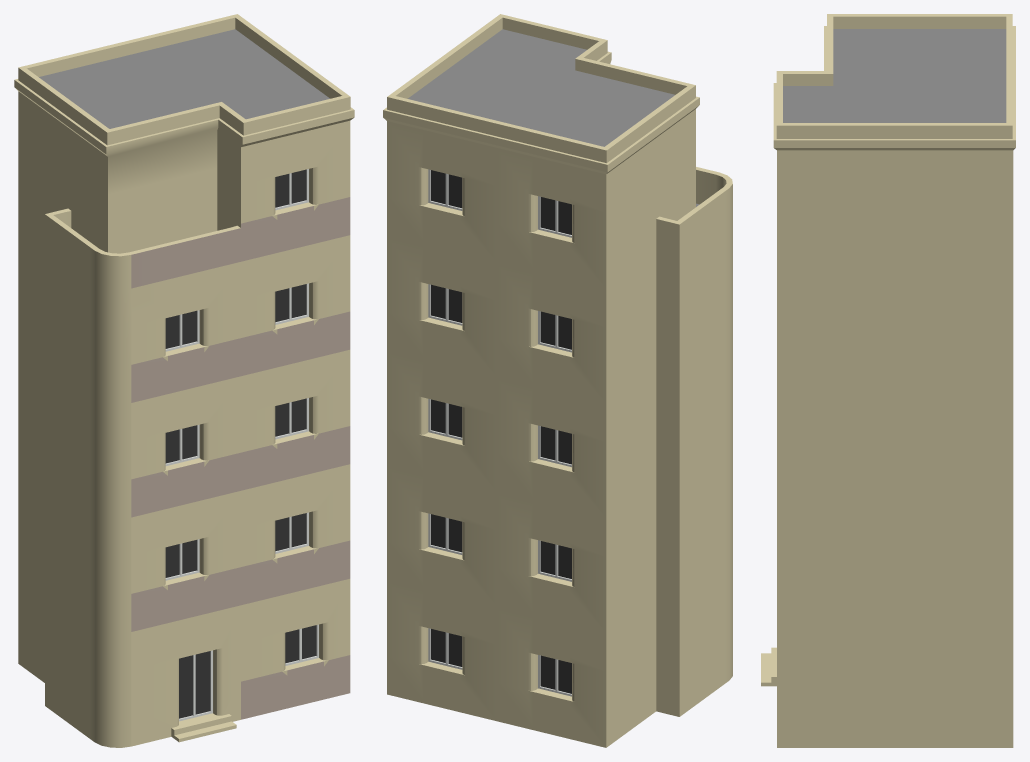
File: zgrada_1.gltf
The picture shows the model from 3 angles, left to right: view 1: azimuth 30°, elevation 25°; view 2: azimuth 150°, elevation 25°; view 3: azimuth 270°, elevation 25°; orthographic projection. The views are drawn at different scales.
Parts seen in each view (by area): view 1: zgrada_1; view 2: zgrada_1; view 3: zgrada_1.
Part boxes in pixels (left/top/right/bottom): zgrada_1: left=14, top=14, right=354, bottom=747; zgrada_1: left=383, top=14, right=732, bottom=747; zgrada_1: left=761, top=14, right=1015, bottom=747.
Bounding box in the file's own units: 8.07 × 18.79 × 6.97.
